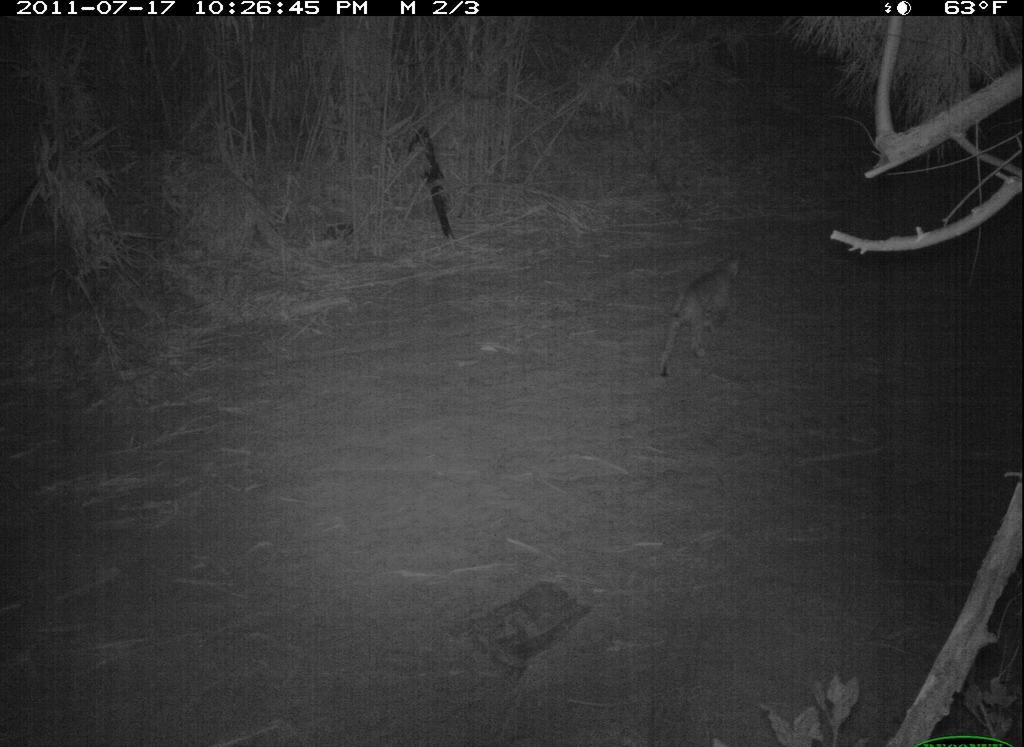bobcat: (653, 250, 748, 388)
